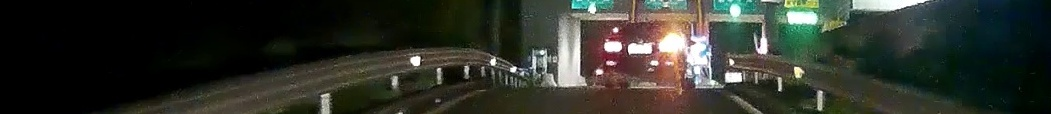L_light: (605, 42, 622, 52)
R_light: (659, 41, 681, 52)
T_light: (639, 22, 652, 26)
night-right: (603, 20, 684, 89)
